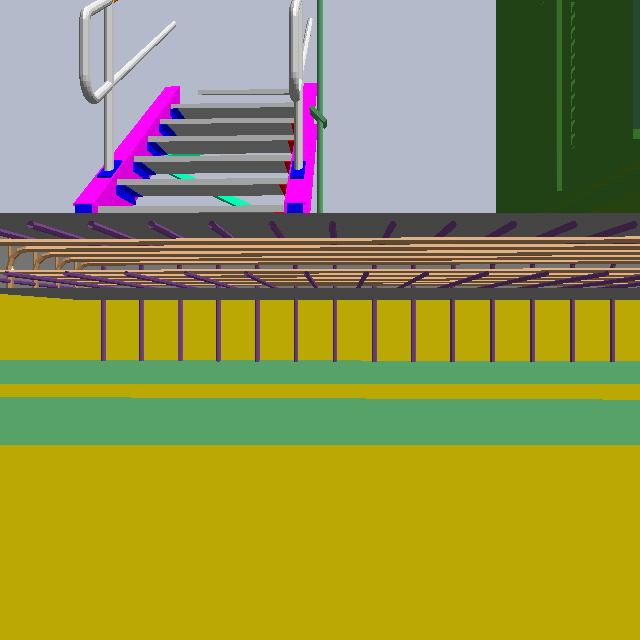Poste: (316, 2, 325, 234)
